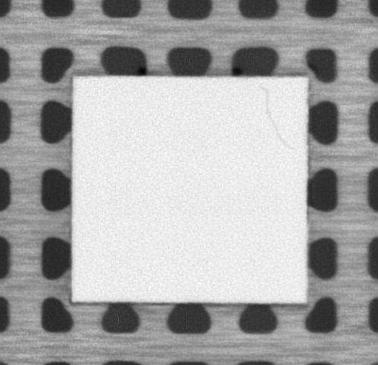DIE_CRACK: (259, 86, 298, 149)
